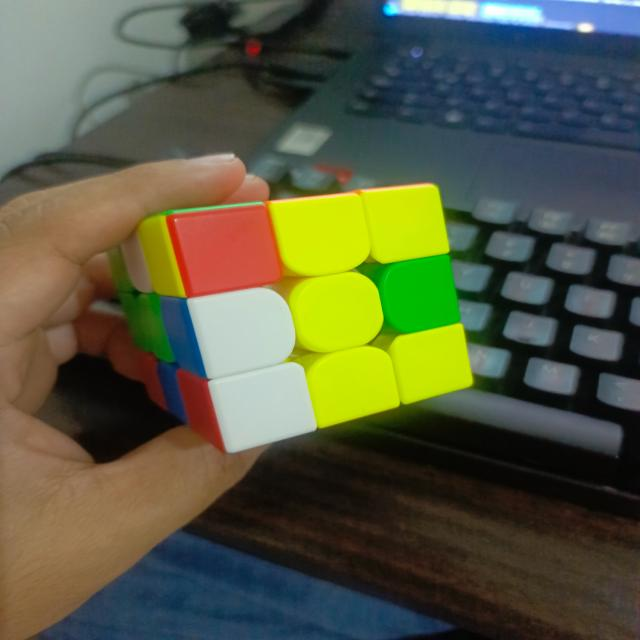rubik: (104, 181, 476, 454)
